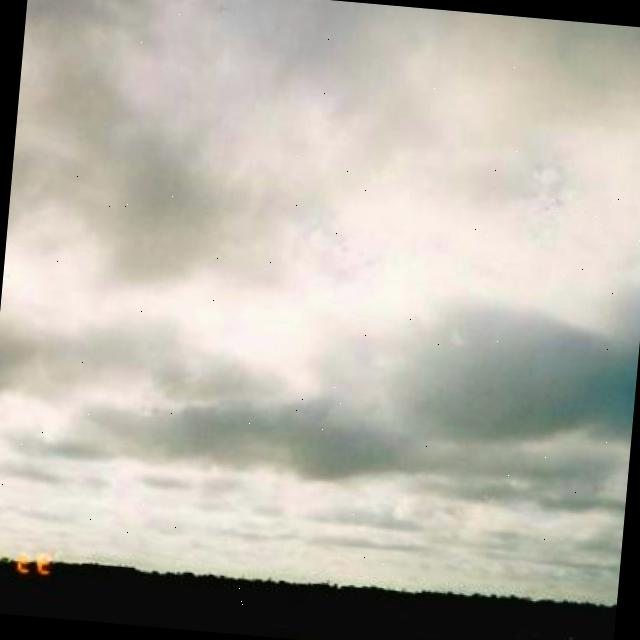St: (1, 28, 640, 542)
